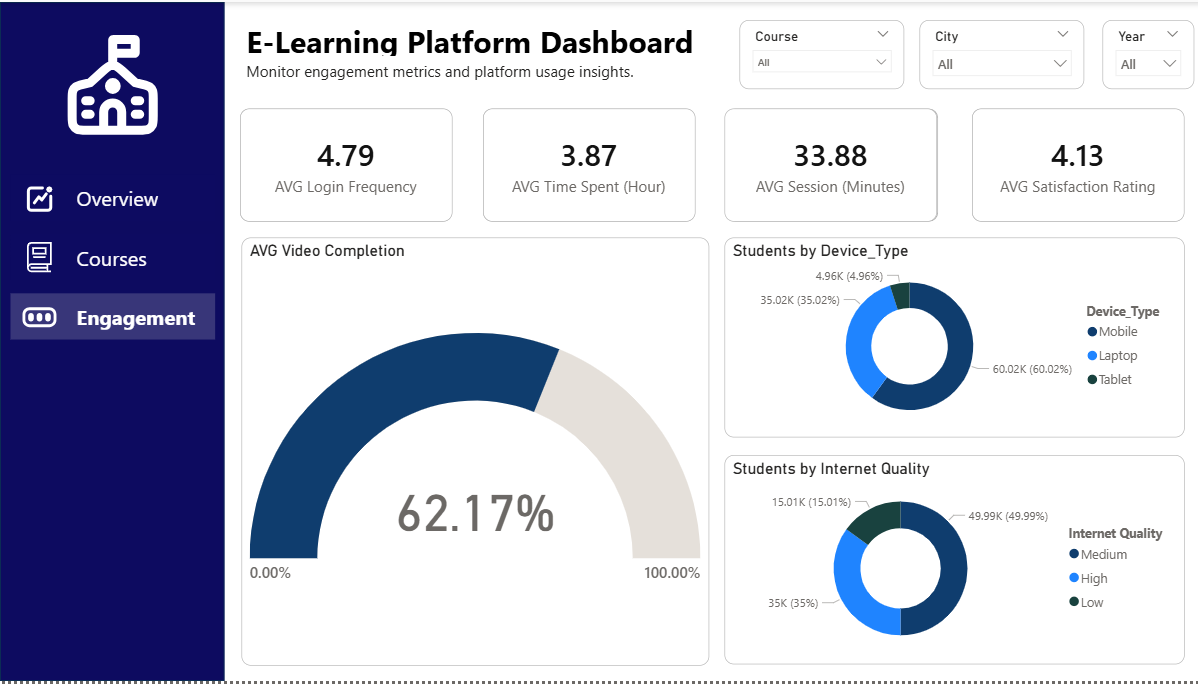

The page's visual inventory and layout, read from the dashboard file:
{"tool":"powerbi","page":{"name":"Engagement","canvas":[1280,720],"ordinal":2},"visuals":[{"type":"shape","box":[0,0,238.1,720],"z":0},{"type":"pageNavigator","box":[11.3,183.3,217.3,175.7],"z":1000},{"type":"image","box":[18.9,189,47.2,37.8],"z":2000},{"type":"image","box":[37.5,30,162.5,115],"z":3000},{"type":"image","box":[18.9,255.1,45.4,32.1],"z":4000},{"type":"image","box":[24,315,36,38],"z":5000},{"type":"textbox","box":[256,14,534,56],"z":6000},{"type":"textbox","box":[255.7,57.1,511.4,40],"z":7000},{"type":"shape","box":[255,112.5,225,120],"z":10000},{"type":"shape","box":[512.5,112.5,225,120],"z":11000},{"type":"shape","box":[770,112.5,225,120],"z":12000},{"type":"shape","box":[1030,112.5,225,120],"z":13000},{"type":"cardVisual","fields":{"Data":["fact_tbl.AVG Login Frequency"]},"box":[255,112.5,225,120],"z":14000},{"type":"cardVisual","fields":{"Data":["fact_tbl.AVG Session Duration"]},"box":[767.5,112.5,225,120],"z":15000},{"type":"cardVisual","fields":{"Data":["fact_tbl.AVG Satisfaction Rating"]},"box":[1030,112.5,225,120],"z":16000},{"type":"cardVisual","fields":{"Data":["fact_tbl.AVG Time Spent"]},"box":[512.5,112.5,225,120],"z":17000},{"type":"gauge","fields":{"Y":["fact_tbl.AVG Video Completion"]},"box":[256,250,496,454],"z":18000},{"type":"donutChart","fields":{"Category":["student_dim.Device_Type"],"Y":["CountNonNull(student_dim.Student_ID)"]},"box":[768,250,488,212],"z":19000},{"type":"donutChart","fields":{"Category":["student_dim.Internet_Connection_Quality"],"Y":["CountNonNull(student_dim.Student_ID)"]},"box":[768,480,488,222],"z":20000},{"type":"slicer","fields":{"Values":["courses_dim.Course_Name"]},"box":[784.2,19.1,175,73.2],"z":20001},{"type":"slicer","fields":{"Values":["city_dim.City"]},"box":[975,19.1,175,73.2],"z":20002},{"type":"slicer","fields":{"Values":["student_dim.Enrollment_Date.Variation.Date Hierarchy.Year"]},"box":[1169.1,19.1,97,73.2],"z":20003}]}

Visuals, with their boxes in screenshot pixels (x1, y1, x2, y2), scaled from the page's 1280x720 canvas onto the 1198x684 screenshot:
shape: bbox=[0, 0, 223, 683]
pageNavigator: bbox=[11, 174, 214, 341]
image: bbox=[18, 180, 62, 215]
image: bbox=[35, 28, 187, 138]
image: bbox=[18, 242, 60, 273]
image: bbox=[22, 299, 56, 335]
textbox: bbox=[240, 13, 739, 66]
textbox: bbox=[239, 54, 718, 92]
shape: bbox=[239, 107, 449, 221]
shape: bbox=[480, 107, 690, 221]
shape: bbox=[721, 107, 931, 221]
shape: bbox=[964, 107, 1175, 221]
cardVisual - fact_tbl.AVG Login Frequency: bbox=[239, 107, 449, 221]
cardVisual - fact_tbl.AVG Session Duration: bbox=[718, 107, 929, 221]
cardVisual - fact_tbl.AVG Satisfaction Rating: bbox=[964, 107, 1175, 221]
cardVisual - fact_tbl.AVG Time Spent: bbox=[480, 107, 690, 221]
gauge - fact_tbl.AVG Video Completion: bbox=[240, 238, 704, 669]
donutChart - student_dim.Device_Type x CountNonNull(student_dim.Student_ID): bbox=[719, 238, 1176, 439]
donutChart - student_dim.Internet_Connection_Quality x CountNonNull(student_dim.Student_ID): bbox=[719, 456, 1176, 667]
slicer - courses_dim.Course_Name: bbox=[734, 18, 898, 88]
slicer - city_dim.City: bbox=[913, 18, 1076, 88]
slicer - student_dim.Enrollment_Date.Variation.Date Hierarchy.Year: bbox=[1094, 18, 1185, 88]
